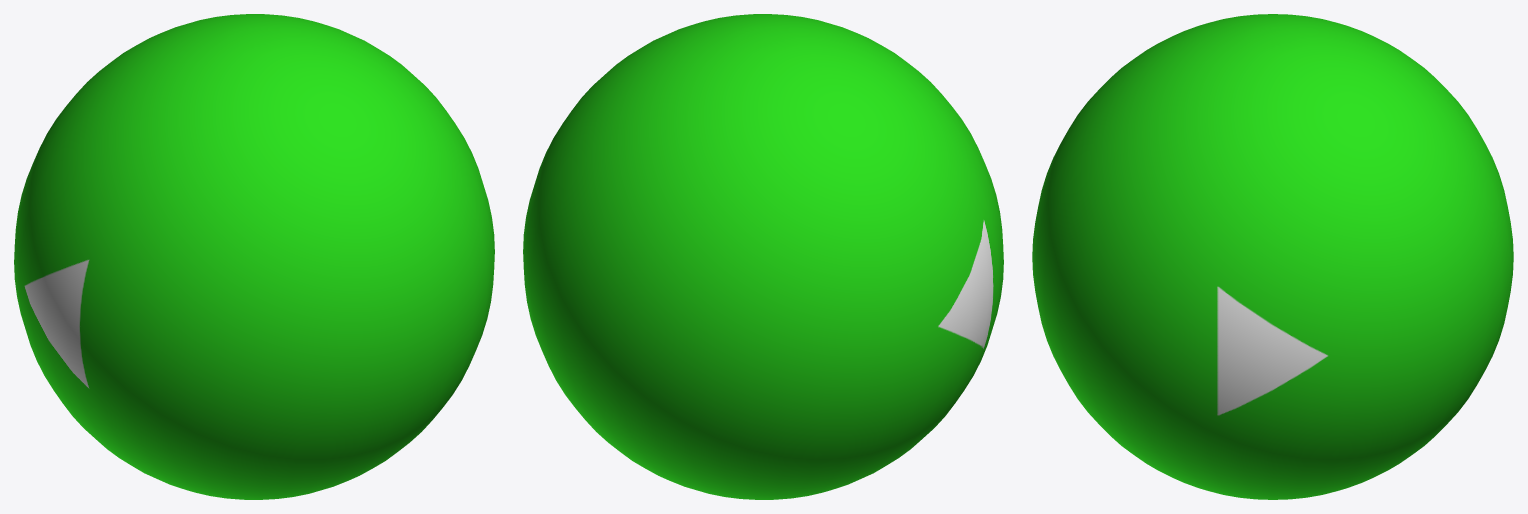
The model's file is forward_sphere2.fbx.
3 renders of one model, left to right at view 1: azimuth 30°, elevation 25°; view 2: azimuth 150°, elevation 25°; view 3: azimuth 270°, elevation 25°, orthographic.
Visible parts, largest first — view 1: pSphere3; view 2: pSphere3; view 3: pSphere3.
Part boxes in pixels (x1,y1,x2,y2): pSphere3: (14,14,494,499); pSphere3: (523,14,1003,499); pSphere3: (1032,14,1513,499).
Size of the model in its own units: 1.97 by 2 by 1.97.
